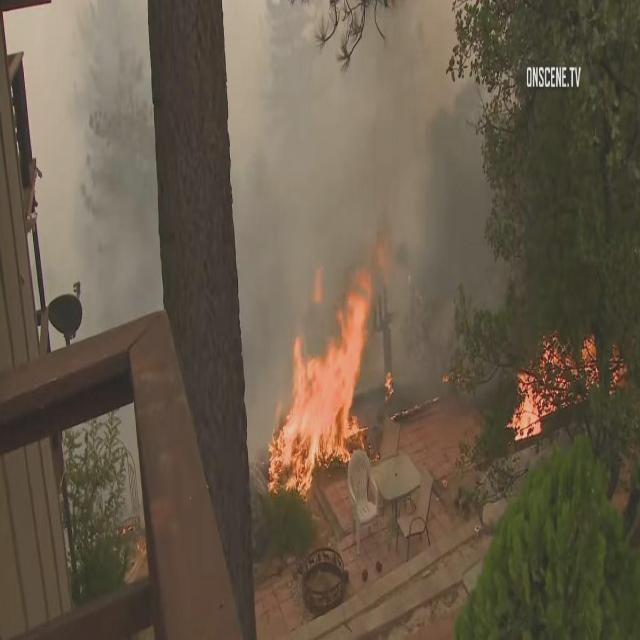Fire: (262, 240, 375, 504), (506, 316, 630, 445)
